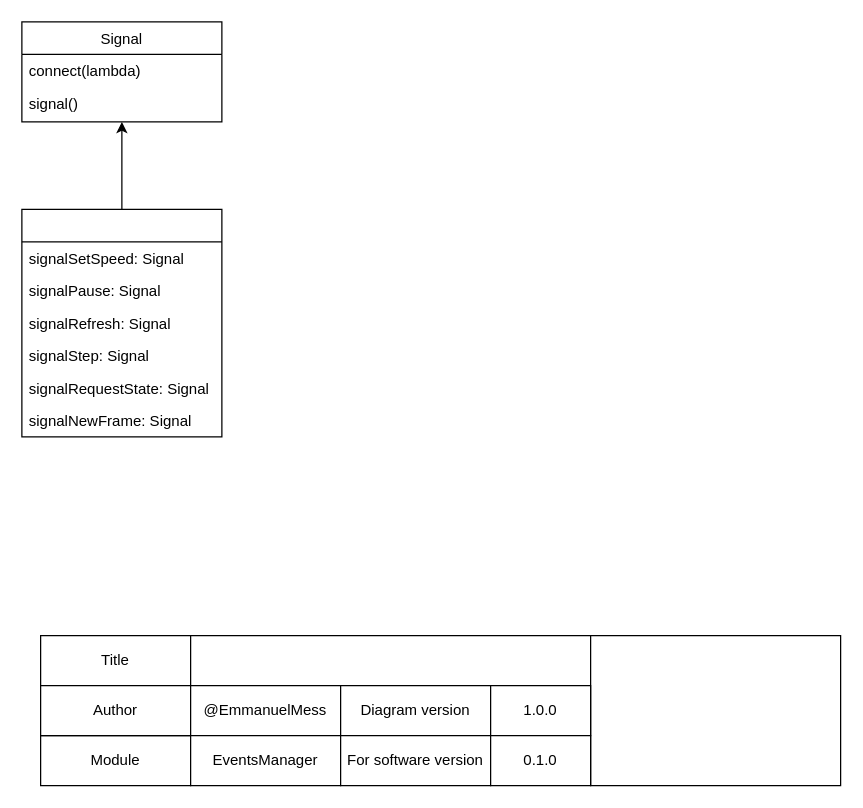
Image size: 863x808. Some labels were removed from this diagram. The shapes that lost their labels are listed below. From the top down, each one's box as (x1, y1, x2, y2) in pixels, then its label:
(21, 208, 222, 437): EventManager
(189, 634, 591, 686): event manager class diagram
(589, 634, 841, 786): Constraint Based Simulator
